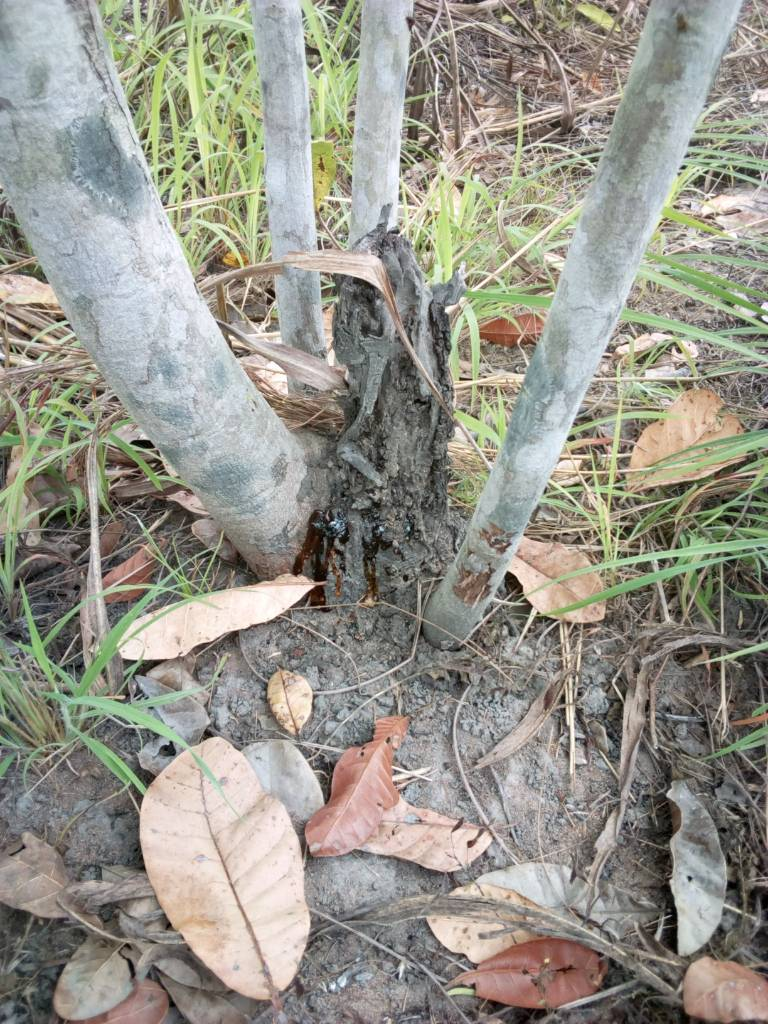Termites: (349, 232, 452, 524)
